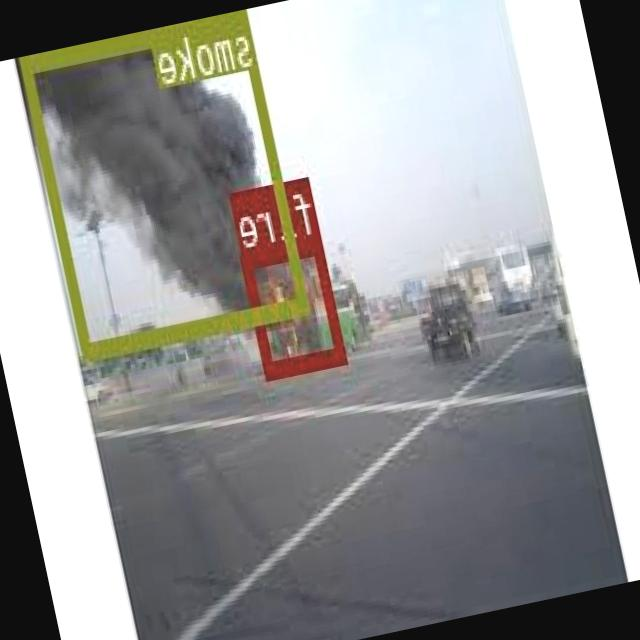fire: (240, 234, 348, 376)
smoke: (22, 9, 311, 358)
